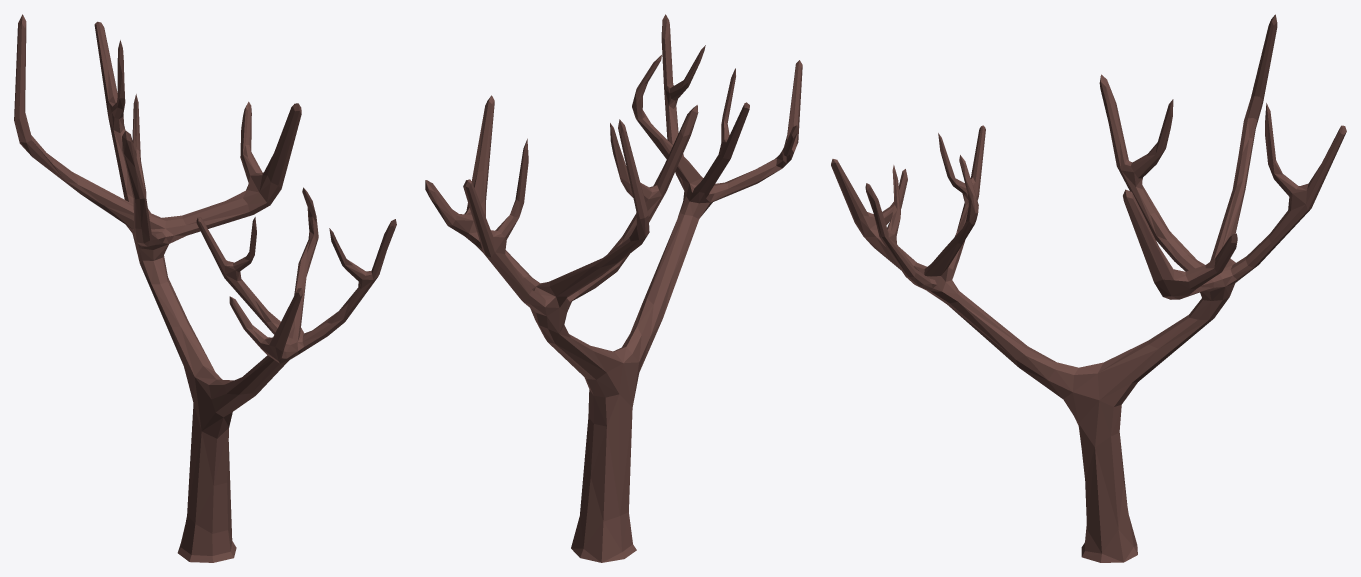
Rendered from CommonTree_Dead_1.lod1.glb.
3 renders of one model, left to right at view 1: azimuth 30°, elevation 25°; view 2: azimuth 150°, elevation 25°; view 3: azimuth 270°, elevation 25°, orthographic. The views are drawn at different scales.
Parts seen in each view (by area): view 1: CommonTree_Dead_1; view 2: CommonTree_Dead_1; view 3: CommonTree_Dead_1.
Boxes of the visible parts, x1,y1,x2,y2 form: CommonTree_Dead_1: (14,14,396,562); CommonTree_Dead_1: (425,14,802,562); CommonTree_Dead_1: (831,14,1346,562).
Size of the model in its own units: 1.04 by 2.22 by 2.12.
